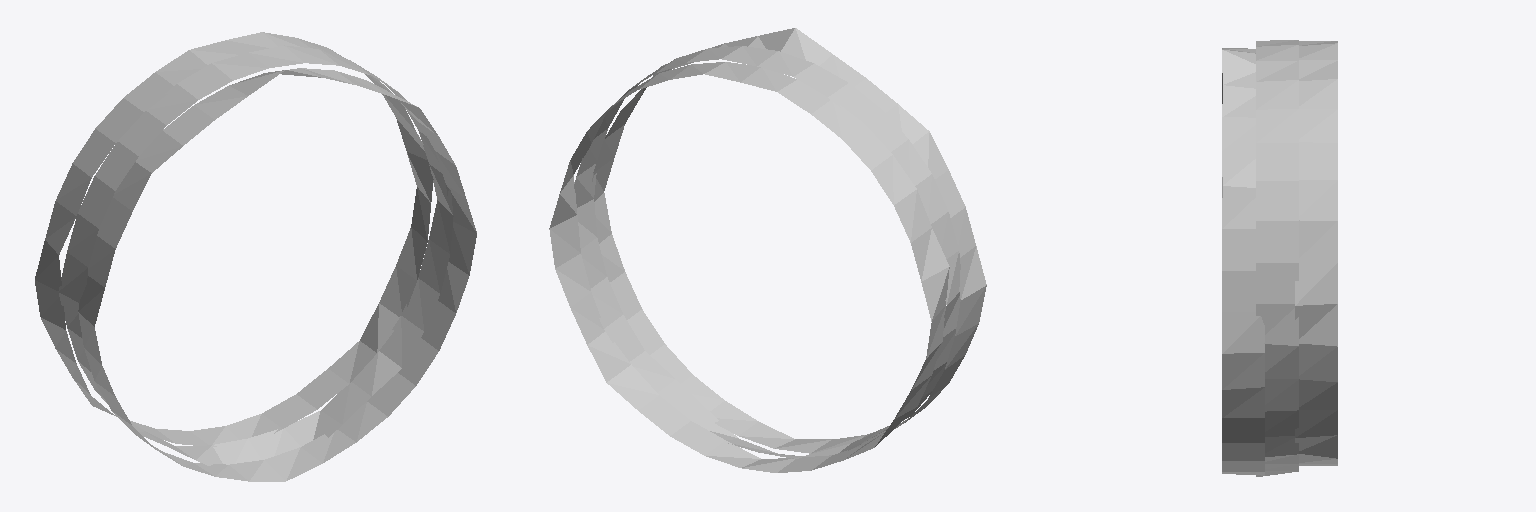
File: rainbow3.obj
3 renders of one model, left to right at view 1: azimuth 30°, elevation 25°; view 2: azimuth 150°, elevation 25°; view 3: azimuth 270°, elevation 25°, orthographic.
Parts seen in each view (by area): view 1: Cylinder.001, Cylinder.002, Cylinder; view 2: Cylinder.002, Cylinder, Cylinder.001; view 3: Cylinder.001, Cylinder.002, Cylinder.
Part boxes in pixels (x1,y1,x2,y2): Cylinder.001: (58,45,453,465); Cylinder.002: (35,32,433,446); Cylinder: (78,68,476,481); Cylinder.002: (549,62,949,472); Cylinder: (592,28,986,453); Cylinder.001: (574,46,960,458); Cylinder.001: (1256,40,1298,476); Cylinder.002: (1295,41,1337,465); Cylinder: (1222,48,1264,475).
Size of the model in its own units: 4.18 by 4.29 by 1.09.